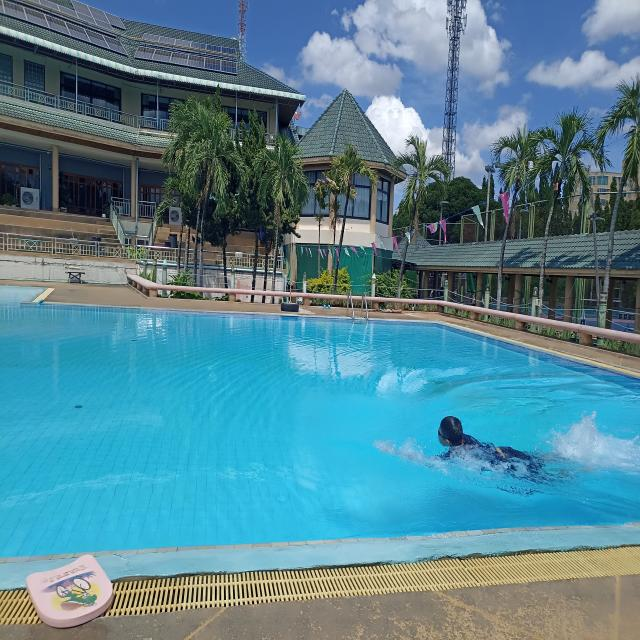Swimming: (384, 401, 598, 512)
